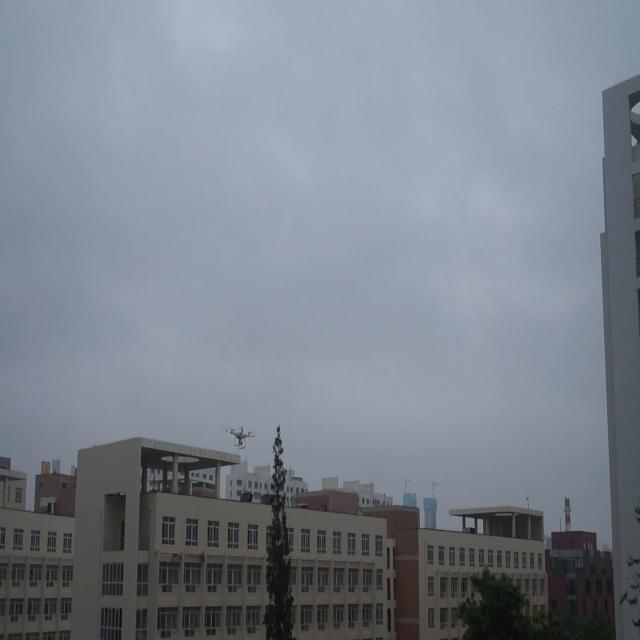UAV: (225, 427, 255, 449)
